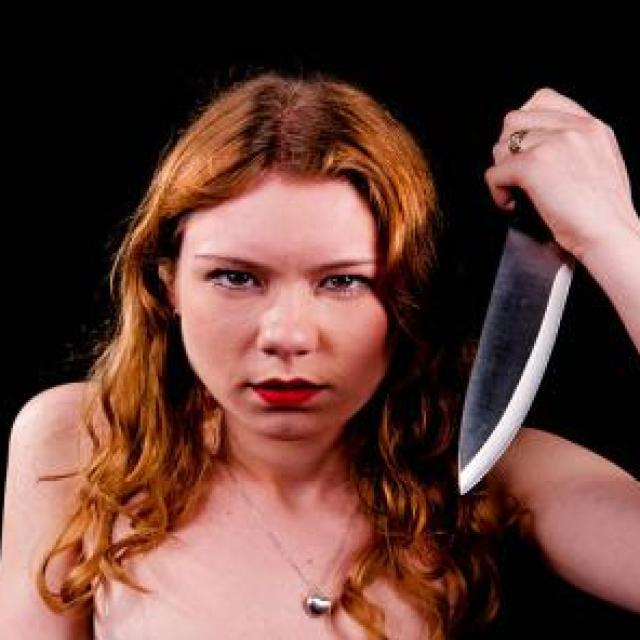knife: (441, 123, 608, 495)
